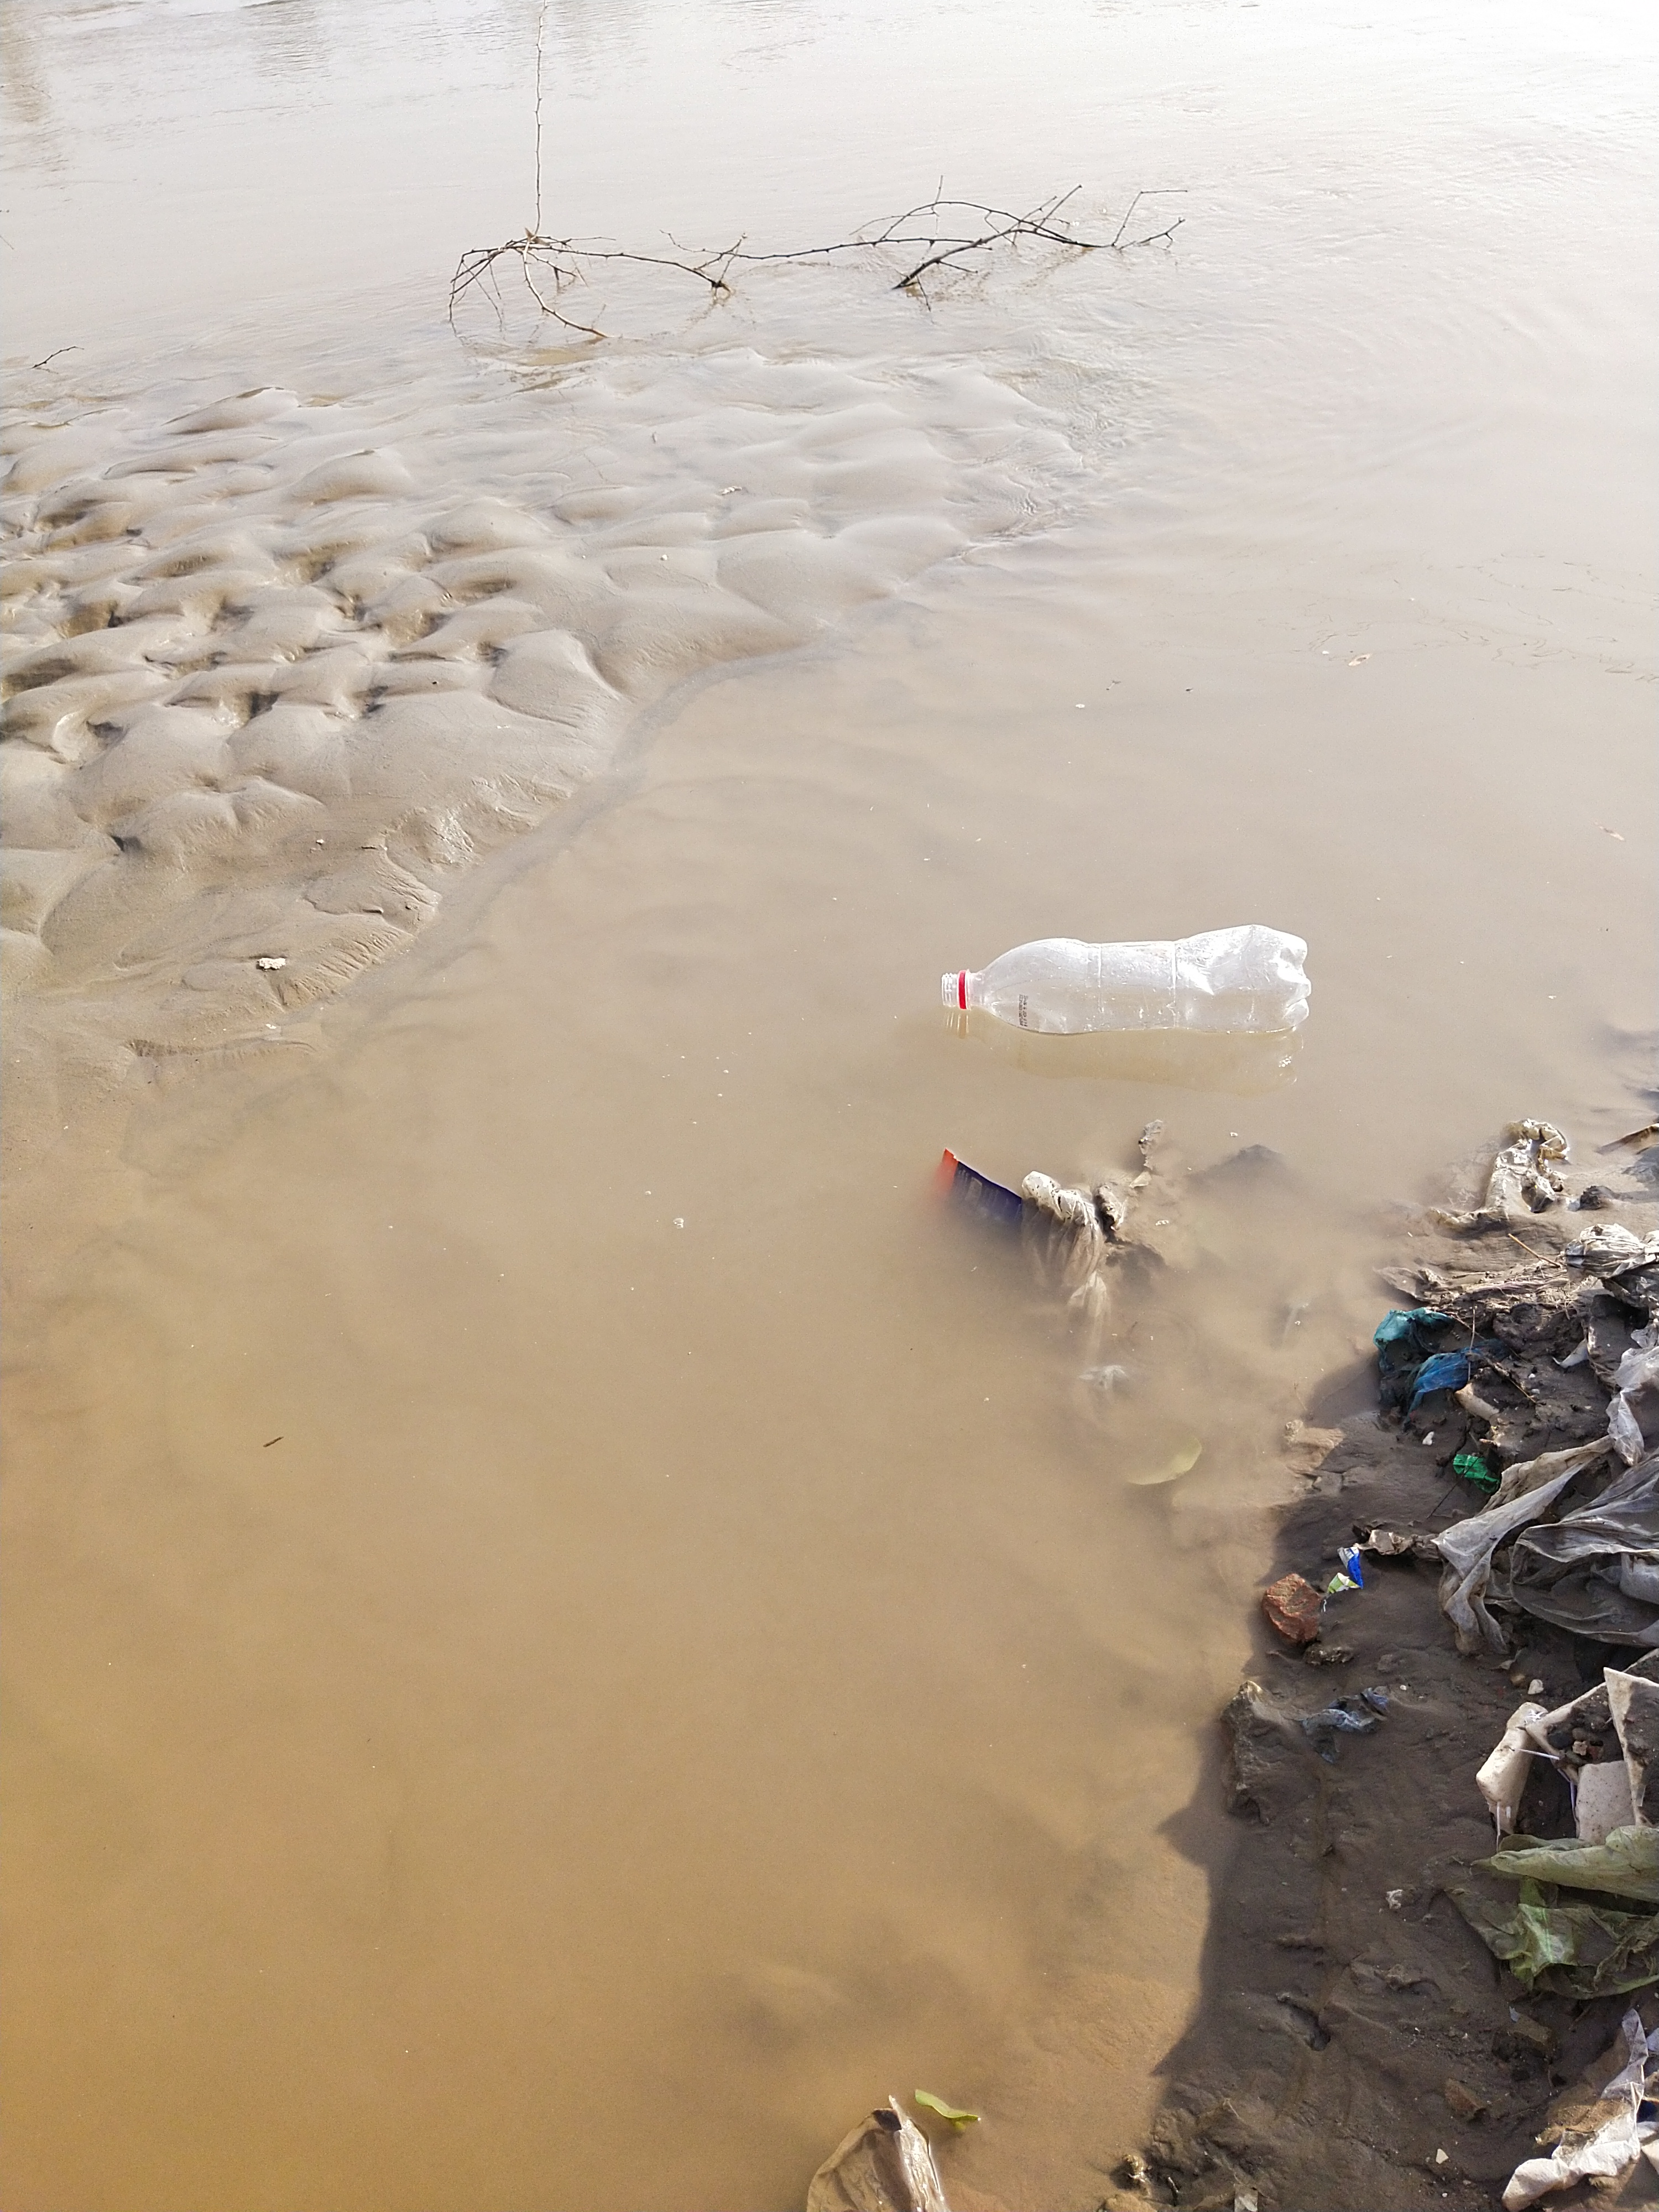Plastic Bottle: (941, 925, 1312, 1035)
